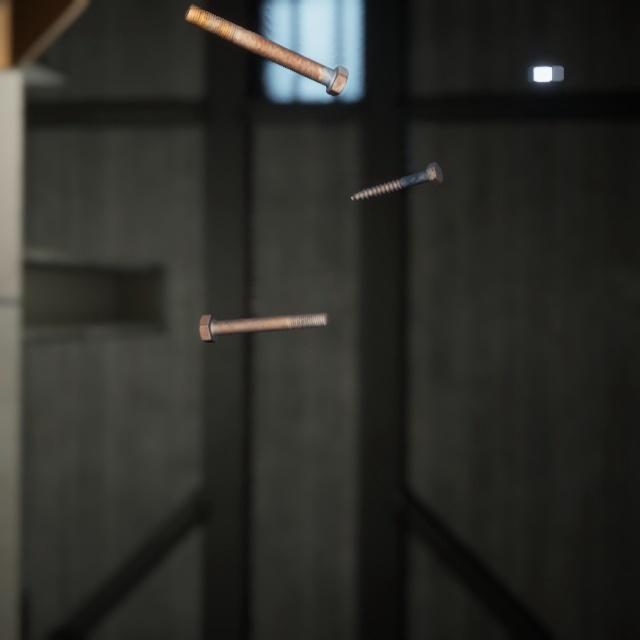bolt: (180, 0, 353, 91), (194, 289, 334, 328), (346, 143, 447, 191)
